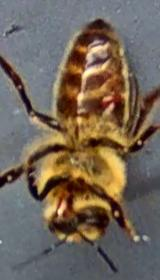varroa_mite: (90, 87, 122, 110)
